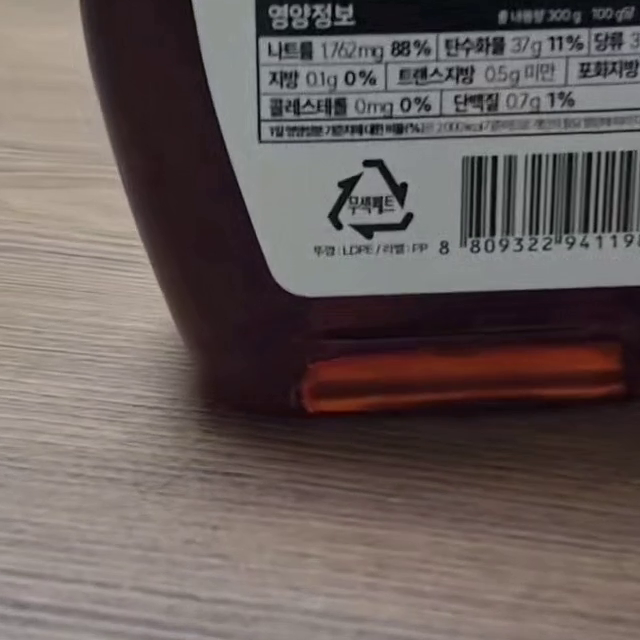ColorlessPet: (328, 158, 414, 240)
